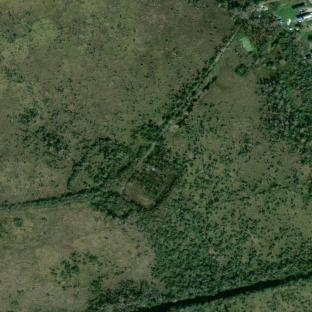Floresta: (94, 235, 310, 312), (260, 34, 312, 163), (0, 0, 0, 0)
